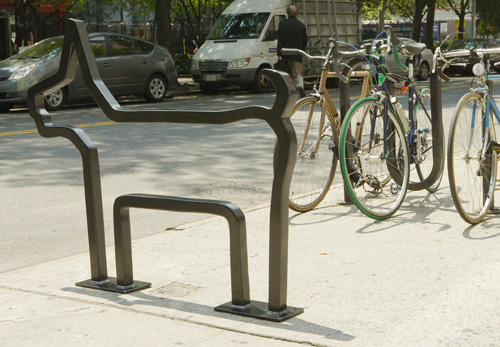Bicycle: (302, 41, 425, 221), (446, 45, 500, 237)
